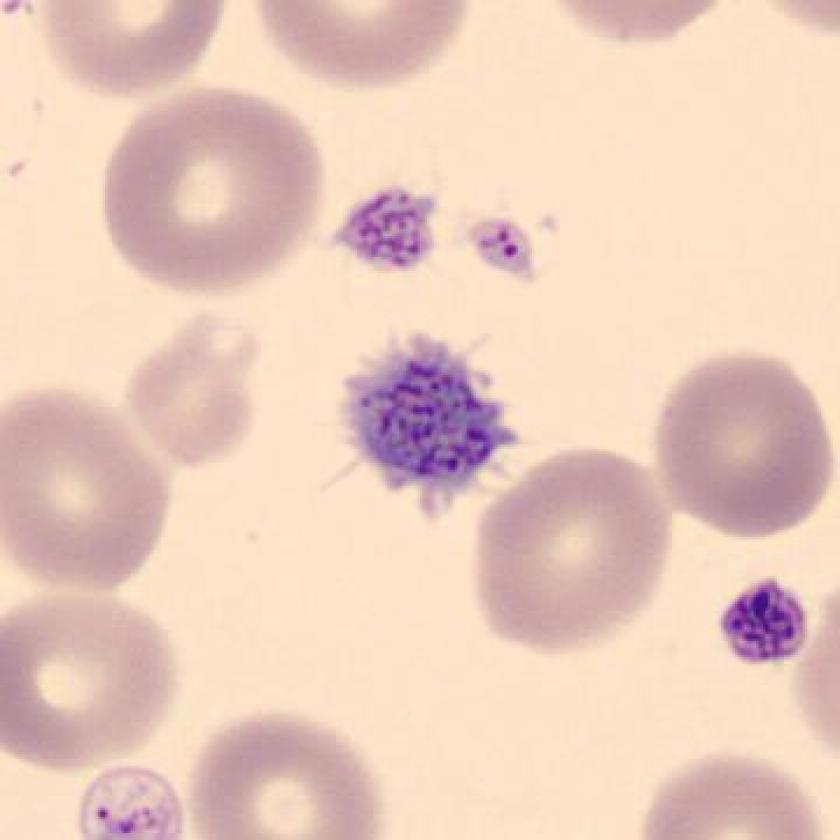platelets: (325, 323, 519, 522), (330, 174, 458, 302), (708, 568, 818, 684), (456, 203, 552, 300)
